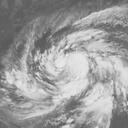cyclone: (4, 27, 127, 127)
